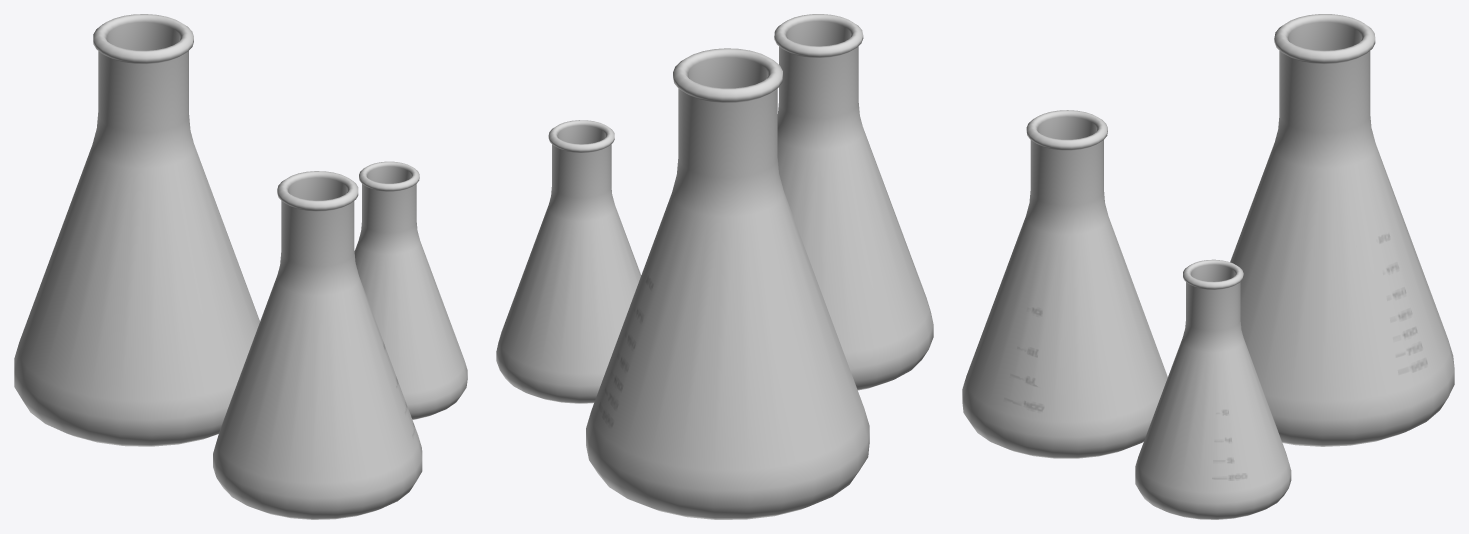
The model's file is flask.glb.
The picture shows the model from 3 angles, left to right: view 1: azimuth 30°, elevation 25°; view 2: azimuth 150°, elevation 25°; view 3: azimuth 270°, elevation 25°; orthographic projection. The views are drawn at different scales.
Parts seen in each view (by area): view 1: Conical_flask_big, Conical_flask_mid, Conical_flask_small; view 2: Conical_flask_big, Conical_flask_mid, Conical_flask_small; view 3: Conical_flask_big, Conical_flask_mid, Conical_flask_small.
Part boxes in pixels (bbox=[...]): Conical_flask_big: bbox=[14, 14, 259, 446]; Conical_flask_mid: bbox=[213, 171, 422, 519]; Conical_flask_small: bbox=[354, 161, 467, 419]; Conical_flask_big: bbox=[586, 48, 869, 519]; Conical_flask_mid: bbox=[774, 14, 933, 390]; Conical_flask_small: bbox=[496, 120, 641, 403]; Conical_flask_big: bbox=[1230, 14, 1454, 446]; Conical_flask_mid: bbox=[962, 110, 1167, 458]; Conical_flask_small: bbox=[1135, 259, 1291, 519].
Bounding box in the file's own units: 0.34 × 0.3226 × 0.392.
Materials: 4 (3 with a texture image).
